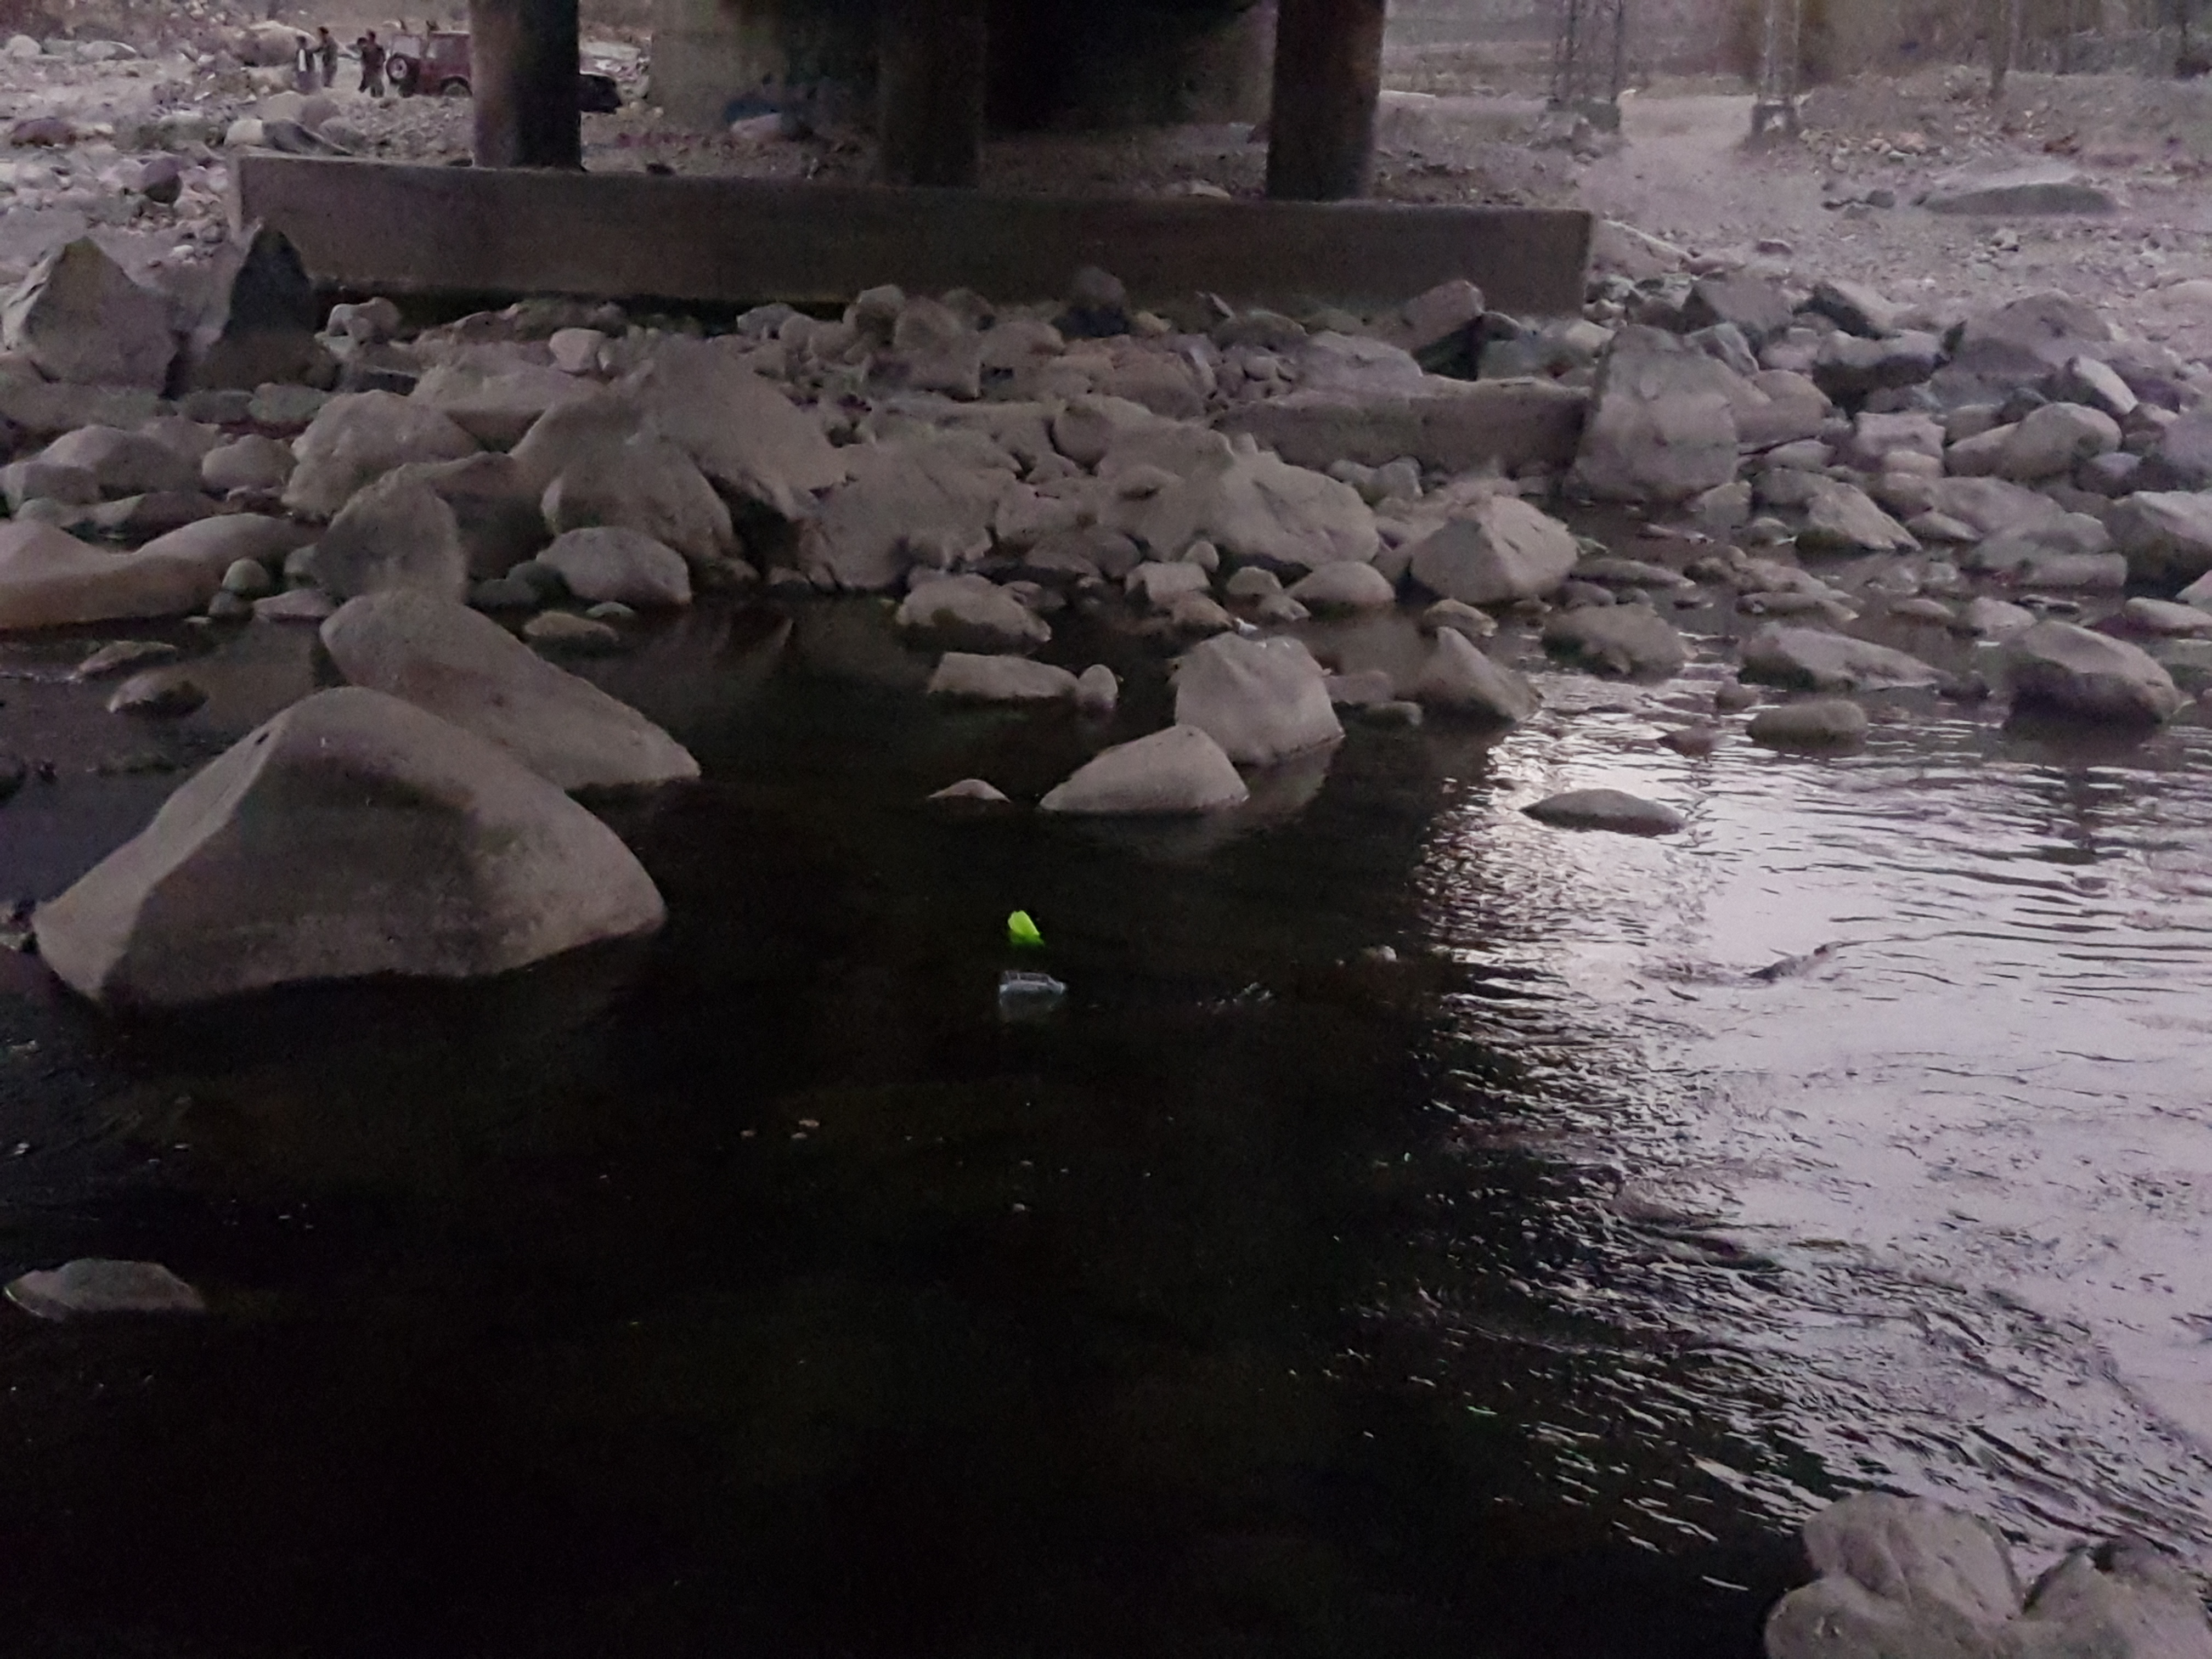Plastic Bottle: (998, 971, 1066, 993), (1007, 910, 1040, 938)
